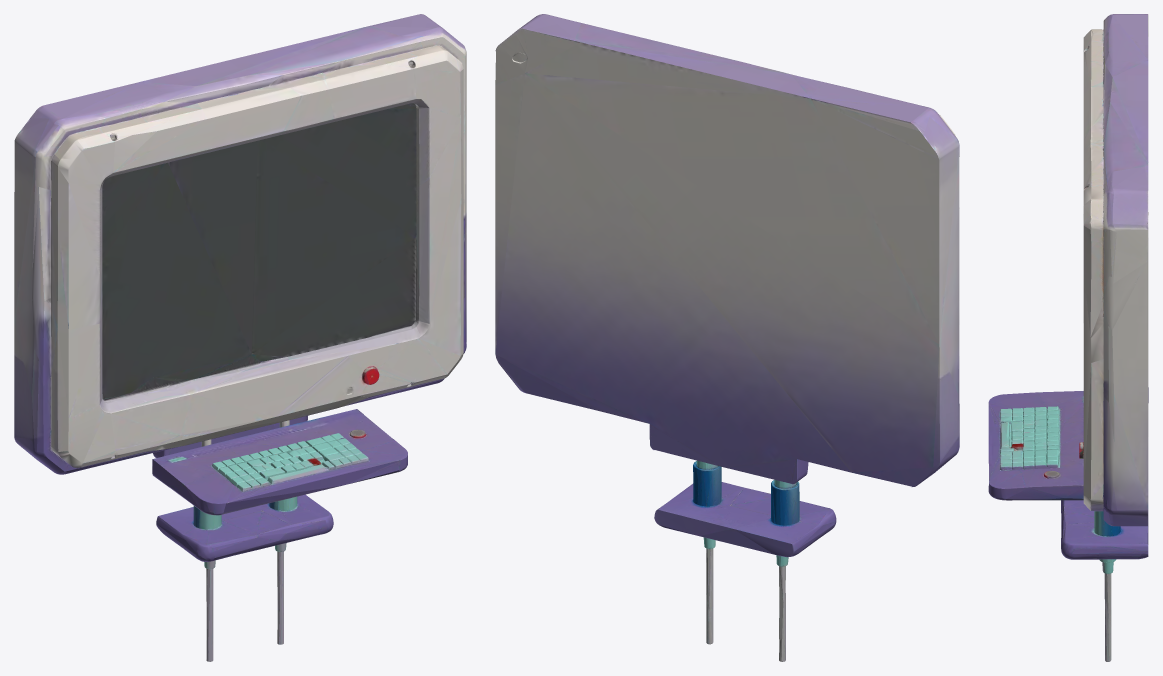
The model's file is research-console.gltf.
The picture shows the model from 3 angles, left to right: view 1: azimuth 30°, elevation 25°; view 2: azimuth 150°, elevation 25°; view 3: azimuth 270°, elevation 25°; orthographic projection. The views are drawn at different scales.
Bounding box in the file's own units: 1.47 × 1.87 × 0.4971.
Materials: 1 (1 with a texture image).
